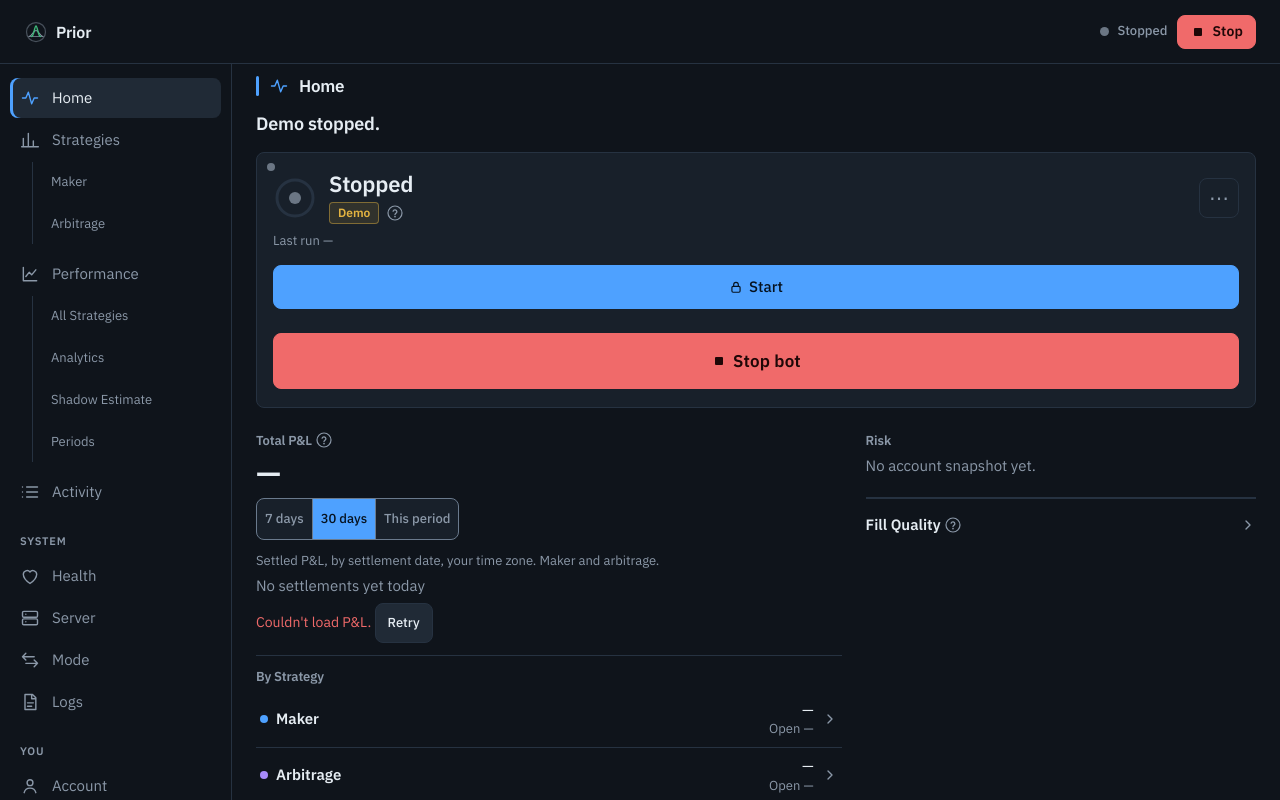
it: fill quality › Overview shows fill quality vs baseline and flags worse-than-tape
This screenshot has width=1280, height=800.
Click the button with class "fold-toggle" at (903, 525), box [866,499,1256,551]
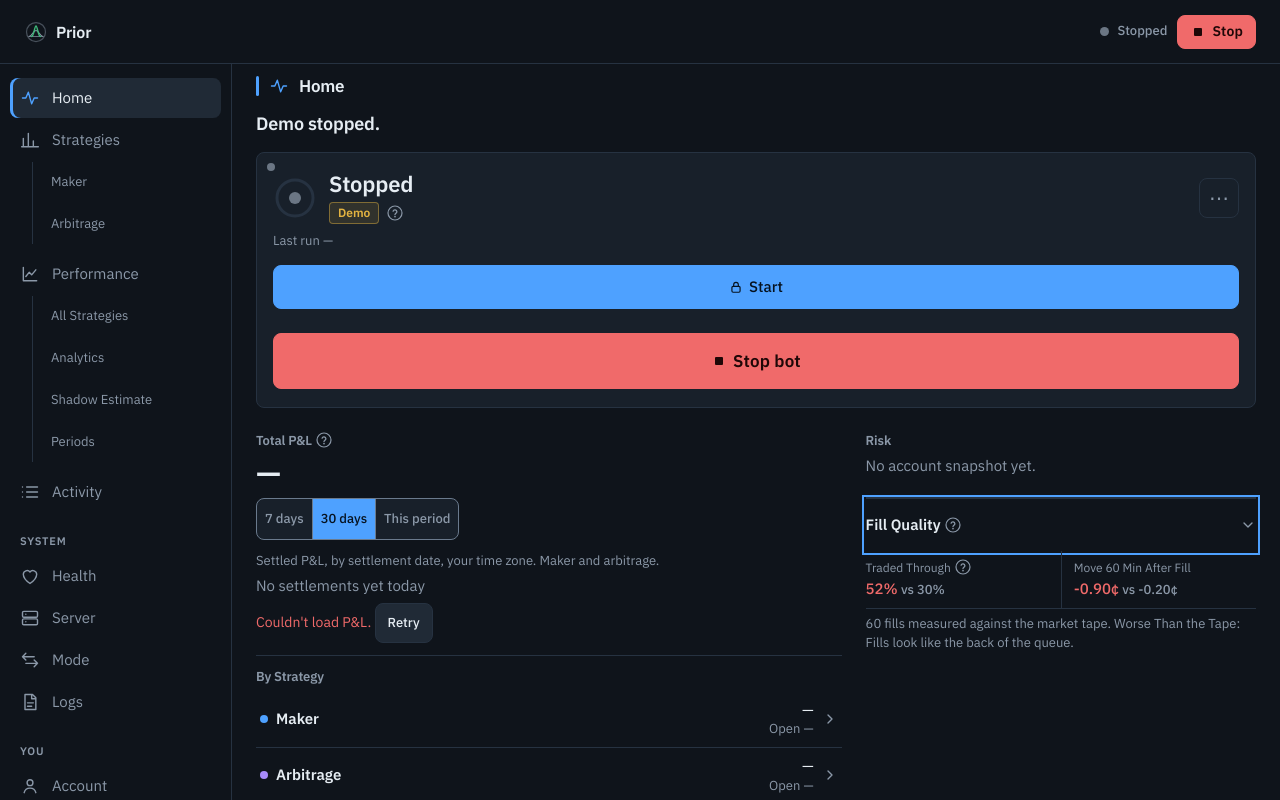
Expected: the text "52%" is shown, [866,579,898,598]
Expected: the text "back of the queue" is shown, [866,615,1240,651]
